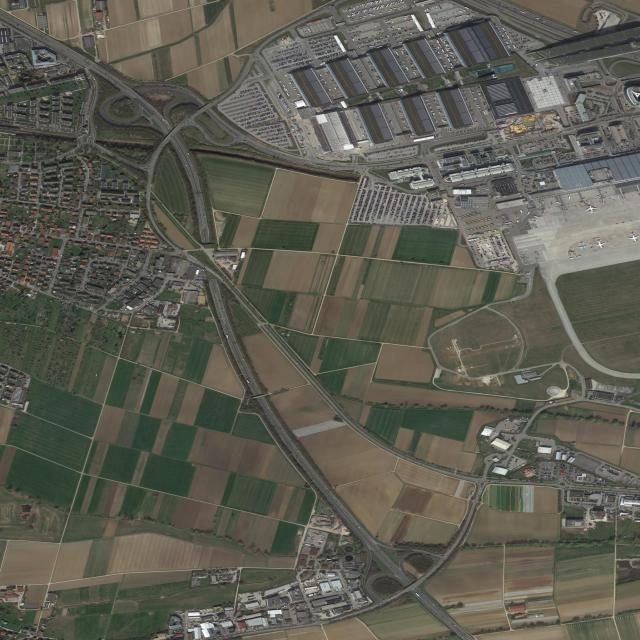large-vehicle: (415, 592, 421, 597), (519, 10, 526, 14), (412, 71, 417, 76), (405, 57, 410, 62), (427, 34, 432, 39), (446, 57, 451, 62), (512, 44, 516, 50), (397, 41, 404, 44), (368, 45, 375, 48), (403, 15, 410, 18), (406, 20, 413, 23), (458, 10, 465, 13), (406, 66, 410, 71), (377, 79, 381, 84), (395, 51, 399, 56), (352, 6, 356, 11), (362, 3, 366, 8), (374, 0, 378, 5), (282, 84, 286, 89), (225, 334, 229, 339), (283, 87, 287, 92), (277, 92, 281, 97), (386, 3, 390, 8), (501, 27, 506, 31), (368, 7, 372, 12), (363, 8, 367, 13), (357, 10, 361, 15), (436, 39, 440, 44), (444, 53, 448, 58), (482, 110, 486, 115), (539, 200, 545, 203), (539, 203, 545, 206), (464, 6, 470, 9), (394, 1, 398, 5), (284, 105, 288, 109), (246, 380, 250, 384), (285, 88, 289, 92), (286, 92, 290, 96), (504, 31, 508, 35), (506, 35, 510, 39), (509, 39, 513, 43), (527, 211, 531, 215), (455, 16, 463, 18), (436, 32, 440, 36), (441, 49, 445, 53), (446, 53, 450, 57), (401, 50, 404, 55), (405, 38, 410, 41), (365, 2, 368, 7), (389, 2, 392, 7), (278, 93, 281, 98), (382, 4, 385, 9), (380, 4, 383, 9), (573, 30, 578, 33), (556, 201, 561, 204), (377, 5, 380, 10), (607, 476, 612, 479), (610, 478, 615, 481), (374, 5, 377, 10), (370, 7, 373, 12), (440, 37, 443, 42), (450, 62, 453, 67), (376, 46, 383, 48), (286, 106, 289, 110), (385, 21, 391, 23), (389, 18, 393, 21), (370, 1, 373, 5), (161, 118, 165, 121), (284, 103, 287, 107), (276, 90, 279, 94), (279, 95, 282, 99), (281, 98, 284, 102), (282, 100, 285, 104), (539, 202, 545, 204), (520, 209, 523, 213), (533, 216, 539, 218), (368, 14, 374, 16), (387, 10, 391, 13), (471, 12, 476, 14), (401, 65, 406, 67), (597, 195, 602, 197), (570, 257, 575, 259), (576, 256, 581, 258), (503, 41, 508, 43), (426, 103, 431, 105), (359, 17, 364, 19), (480, 99, 485, 101), (287, 109, 290, 112), (280, 97, 283, 100), (282, 102, 285, 105), (283, 103, 286, 106), (242, 357, 244, 361), (506, 45, 510, 47), (582, 198, 586, 200), (599, 196, 603, 198), (480, 97, 484, 99), (187, 152, 189, 155), (499, 482, 504, 483), (477, 93, 482, 94), (569, 196, 570, 200), (578, 381, 582, 382), (478, 94, 482, 95)
plane: (591, 237, 609, 249), (575, 240, 591, 252), (624, 230, 640, 242), (584, 204, 599, 214)
